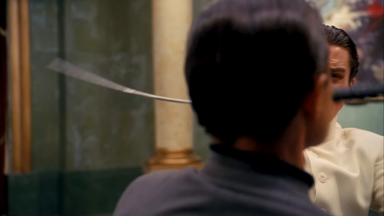bladed_weapon: (40, 52, 191, 108), (334, 80, 383, 104)
